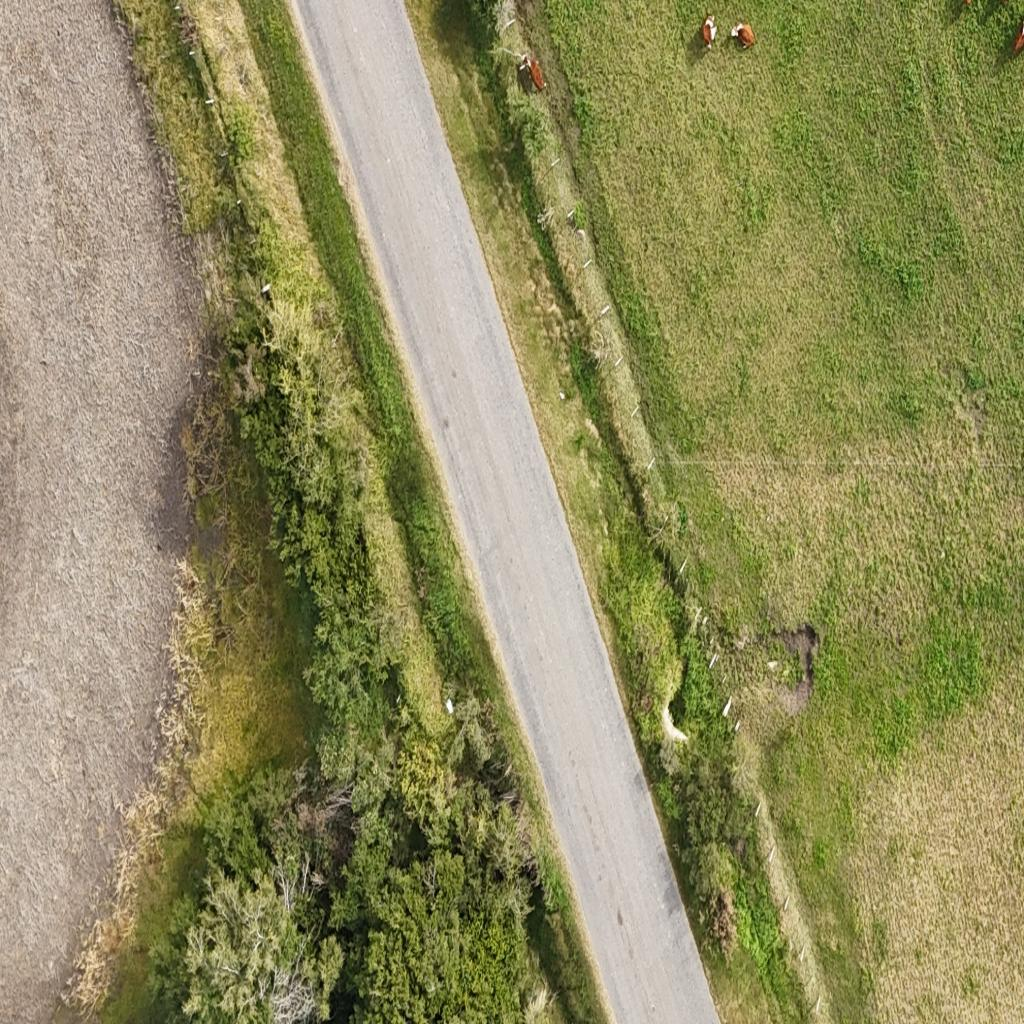cow: (522, 54, 548, 93), (729, 20, 759, 51), (700, 12, 720, 47), (1009, 17, 1024, 63)
